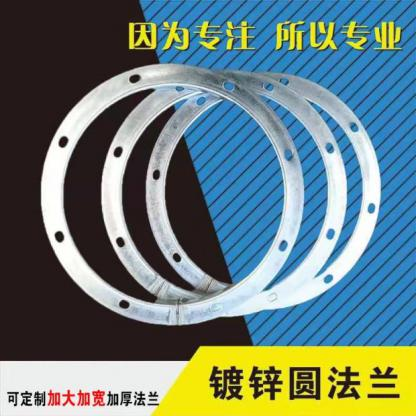FOD: (38, 60, 302, 327), (98, 65, 348, 318), (141, 70, 384, 310)
